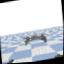drone: (23, 32, 50, 47)
